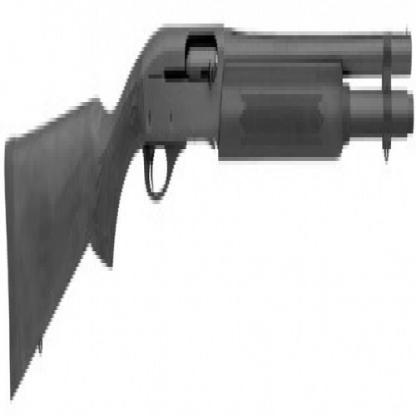Gun: (3, 0, 415, 412)
